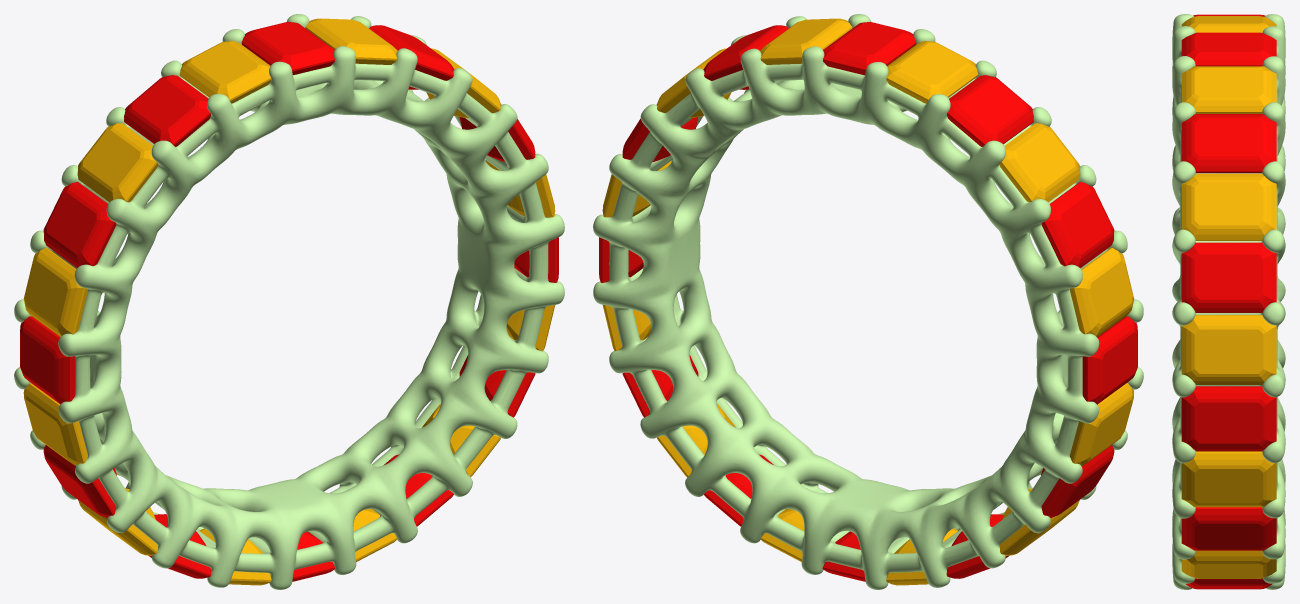
The model's file is TCC-RN-CR-32202-Emerald-Eternity-20.glb.
The picture shows the model from 3 angles, left to right: view 1: azimuth 30°, elevation 25°; view 2: azimuth 150°, elevation 25°; view 3: azimuth 270°, elevation 25°; orthographic projection.
Parts seen in each view (by area): view 1: Metal03, Diamond Band02, Diamond Band01.001, Diamond Band01, Diamond Band02.001, Diamond Band02.009, Diamond Band01.002, Diamond Band01.010, Diamond Band02.002, Diamond Band02.010, Diamond Band01.003, Diamond Band01.011 (+13 smaller); view 2: Metal03, Diamond Band02, Diamond Band01.001, Diamond Band01, Diamond Band02.001, Diamond Band02.009, Diamond Band01.002, Diamond Band01.010, Diamond Band02.002, Diamond Band02.010, Diamond Band01.003, Diamond Band01.011 (+13 smaller); view 3: Metal03, Diamond Band01.009, Diamond Band02.008, Diamond Band02.011, Diamond Band01.008, Diamond Band01.011, Diamond Band02.007, Diamond Band02.010, Diamond Band01.007, Diamond Band01.010, Diamond Band02.006, Diamond Band02.009 (+1 smaller).
Boxes of the visible parts, x1=… form: Metal03: x1=14, y1=14, x2=564, y2=589; Diamond Band02: x1=77, y1=123, x2=157, y2=202; Diamond Band01.001: x1=43, y1=182, x2=116, y2=267; Diamond Band01: x1=124, y1=75, x2=210, y2=146; Diamond Band02.001: x1=23, y1=247, x2=87, y2=336; Diamond Band02.009: x1=179, y1=41, x2=271, y2=103; Diamond Band01.002: x1=20, y1=316, x2=75, y2=404; Diamond Band01.010: x1=241, y1=21, x2=334, y2=74; Diamond Band02.002: x1=23, y1=383, x2=87, y2=465; Diamond Band02.010: x1=305, y1=18, x2=397, y2=64; Diamond Band01.003: x1=43, y1=445, x2=116, y2=517; Diamond Band01.011: x1=369, y1=25, x2=454, y2=89; Metal03: x1=593, y1=14, x2=1143, y2=589; Diamond Band02: x1=999, y1=123, x2=1080, y2=202; Diamond Band01.001: x1=1041, y1=182, x2=1114, y2=268; Diamond Band01: x1=947, y1=75, x2=1033, y2=146; Diamond Band02.001: x1=1070, y1=247, x2=1133, y2=336; Diamond Band02.009: x1=886, y1=41, x2=978, y2=103; Diamond Band01.002: x1=1082, y1=316, x2=1137, y2=404; Diamond Band01.010: x1=823, y1=22, x2=916, y2=75; Diamond Band02.002: x1=1069, y1=383, x2=1133, y2=466; Diamond Band02.010: x1=760, y1=18, x2=852, y2=64; Diamond Band01.003: x1=1041, y1=445, x2=1114, y2=517; Diamond Band01.011: x1=703, y1=25, x2=788, y2=89; Metal03: x1=1172, y1=14, x2=1285, y2=589; Diamond Band01.009: x1=1181, y1=242, x2=1276, y2=312; Diamond Band02.008: x1=1181, y1=315, x2=1276, y2=384; Diamond Band02.011: x1=1181, y1=174, x2=1276, y2=240; Diamond Band01.008: x1=1181, y1=386, x2=1276, y2=451; Diamond Band01.011: x1=1181, y1=114, x2=1276, y2=173; Diamond Band02.007: x1=1181, y1=451, x2=1276, y2=507; Diamond Band02.010: x1=1181, y1=66, x2=1276, y2=113; Diamond Band01.007: x1=1181, y1=507, x2=1276, y2=550; Diamond Band01.010: x1=1181, y1=32, x2=1276, y2=66; Diamond Band02.006: x1=1181, y1=550, x2=1276, y2=578; Diamond Band02.009: x1=1181, y1=16, x2=1276, y2=32.
Size of the model in its own units: 23.55 by 23.55 by 4.66.
